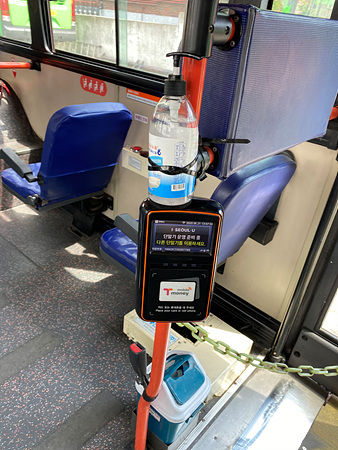terminal: (138, 197, 222, 325)
